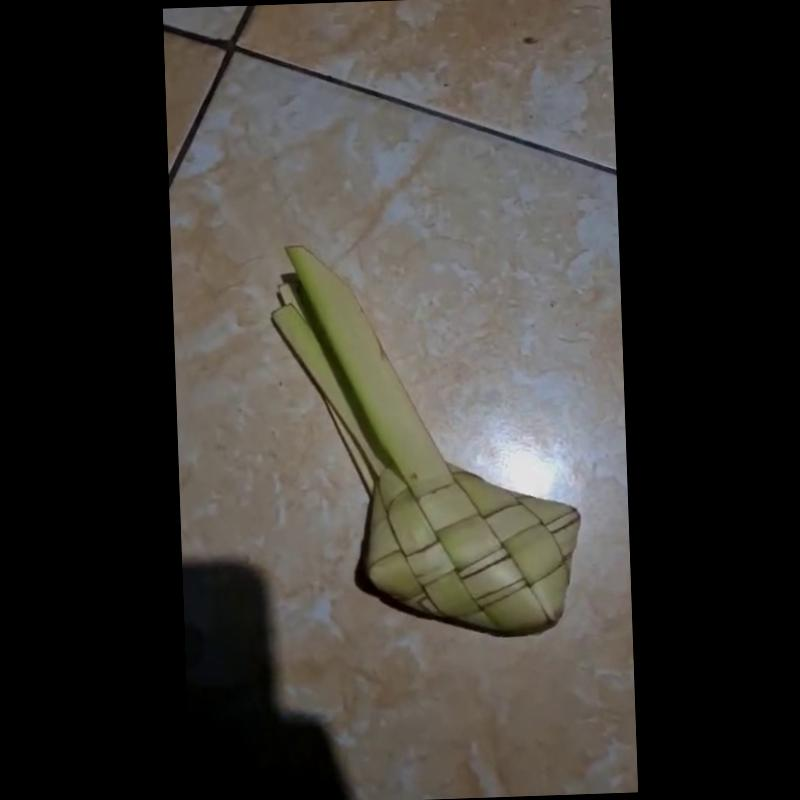Tipat Bantal: (267, 244, 578, 639)
